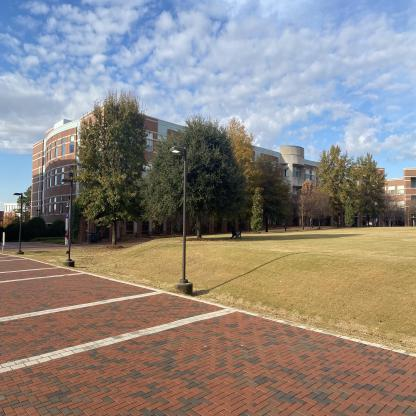EB-1: (26, 103, 388, 246)
